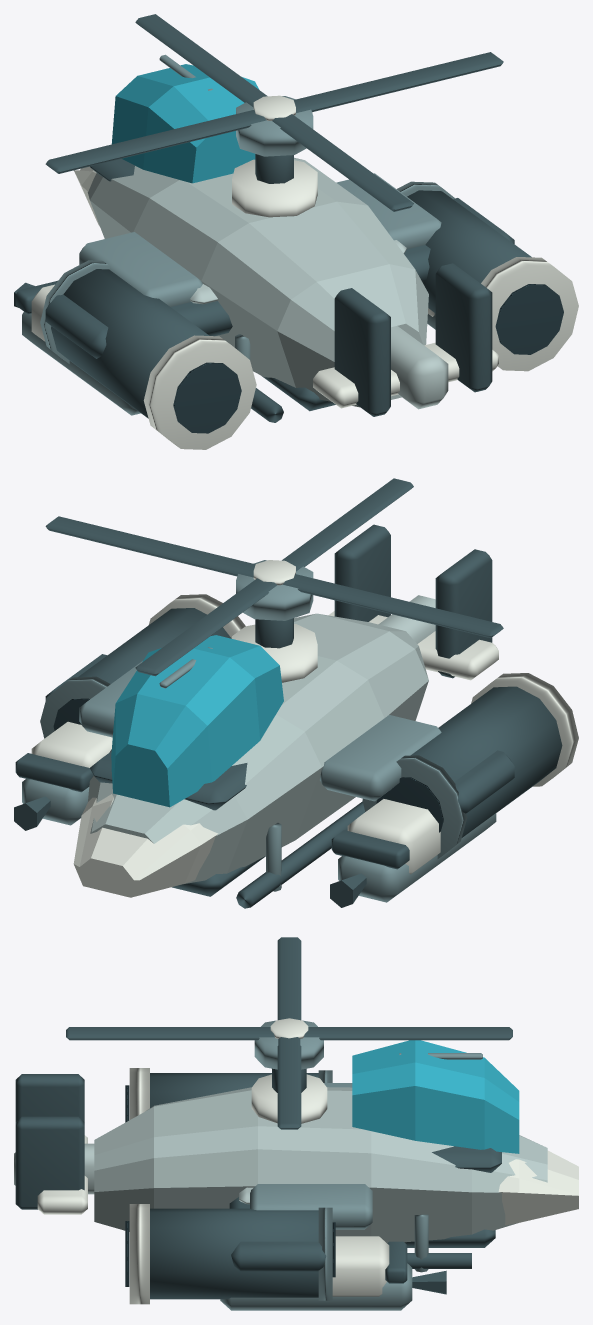
Rendered from gunship.glb.
3 renders of one model, top to bottom at view 1: azimuth 30°, elevation 25°; view 2: azimuth 150°, elevation 25°; view 3: azimuth 270°, elevation 25°, orthographic. The views are drawn at different scales.
Parts seen in each view (by area): view 1: Armored fuselage, Armored lower keel, Nose impact shell, Canopy center brace, Faceted flight canopy, Recessed intake, Main rotor blade, Main rotor blade.001; view 2: Armored lower keel, Armored fuselage, Nose impact shell, Faceted flight canopy, Canopy center brace, Main rotor blade, Main rotor blade.001, Recessed intake; view 3: Armored fuselage, Armored lower keel, Faceted flight canopy, Nose impact shell, Canopy center brace, Main rotor blade.001, Main rotor blade, Recessed intake.
Part boxes in pixels (x1,y1,x2,y2): Armored fuselage: (87,157,448,409); Armored lower keel: (14,154,531,422); Nose impact shell: (31,95,578,449); Canopy center brace: (22,54,455,415); Faceted flight canopy: (111,64,259,183); Recessed intake: (173,284,563,433); Main rotor blade: (45,52,503,173); Main rotor blade.001: (135,14,413,211); Armored lower keel: (14,524,562,908); Armored fuselage: (88,595,435,884); Nose impact shell: (31,560,578,897); Faceted flight canopy: (111,635,283,807); Canopy center brace: (22,560,496,902); Main rotor blade: (45,516,503,638); Main rotor blade.001: (135,478,413,676); Recessed intake: (53,698,443,832); Armored fuselage: (14,1087,547,1243); Armored lower keel: (15,1068,501,1299); Faceted flight canopy: (352,1040,519,1153); Nose impact shell: (37,1018,578,1304); Canopy center brace: (220,1020,482,1310); Main rotor blade.001: (66,1027,512,1040); Main rotor blade: (277,937,301,1129); Recessed intake: (125,1085,335,1286).
Size of the model in its own units: 1.42 by 0.7405 by 1.8.
